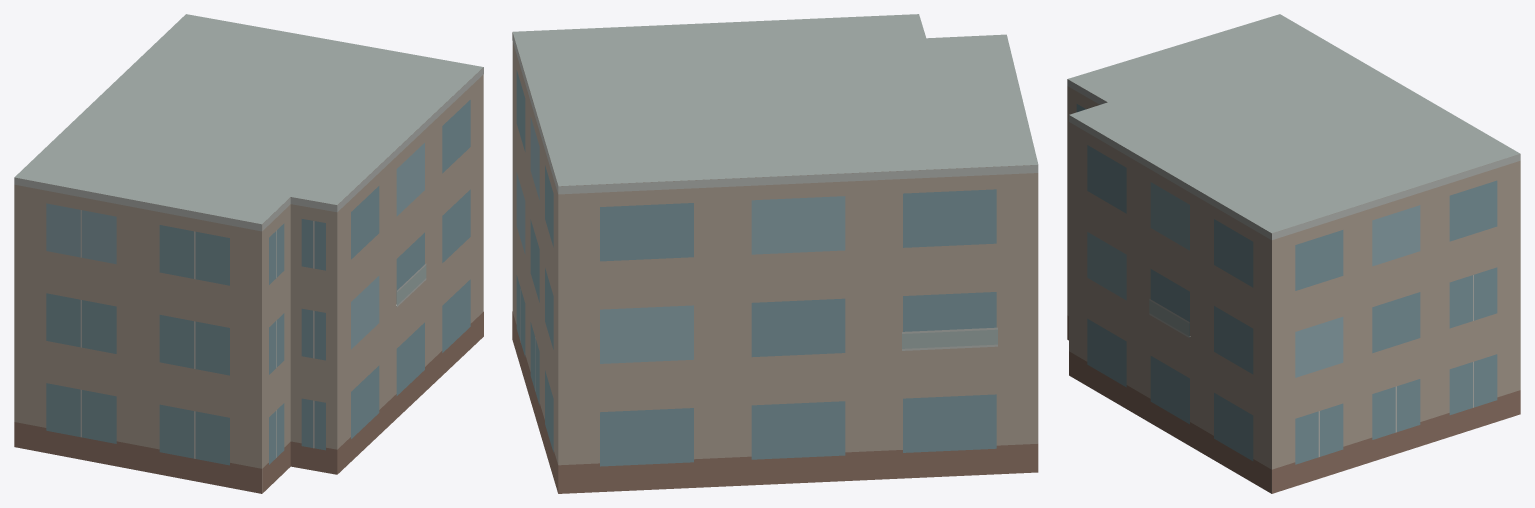
File: survey-upis-32719387.glb
The picture shows the model from 3 angles, left to right: view 1: azimuth 30°, elevation 25°; view 2: azimuth 150°, elevation 25°; view 3: azimuth 270°, elevation 25°; orthographic projection. The views are drawn at different scales.
Parts seen in each view (by area): view 1: survey-upis-32719387.tmp; view 2: survey-upis-32719387.tmp; view 3: survey-upis-32719387.tmp.
Part boxes in pixels (x1,y1,x2,y2): survey-upis-32719387.tmp: (14, 14, 483, 493); survey-upis-32719387.tmp: (512, 14, 1038, 493); survey-upis-32719387.tmp: (1067, 14, 1520, 493).
Bounding box in the file's own units: 16.53 × 9.15 × 14.44.
